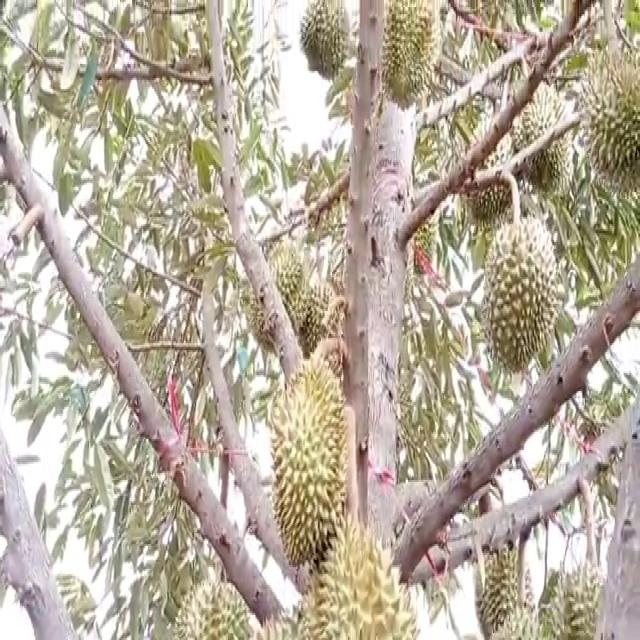durian: (258, 348, 351, 575), (297, 510, 423, 638), (476, 210, 565, 374), (574, 44, 639, 198), (238, 226, 312, 349), (374, 0, 447, 116), (508, 72, 573, 199), (462, 102, 526, 216), (474, 540, 538, 638), (170, 570, 259, 638), (294, 272, 342, 378), (298, 0, 353, 90), (568, 548, 604, 638), (537, 560, 575, 638), (487, 599, 551, 638)
